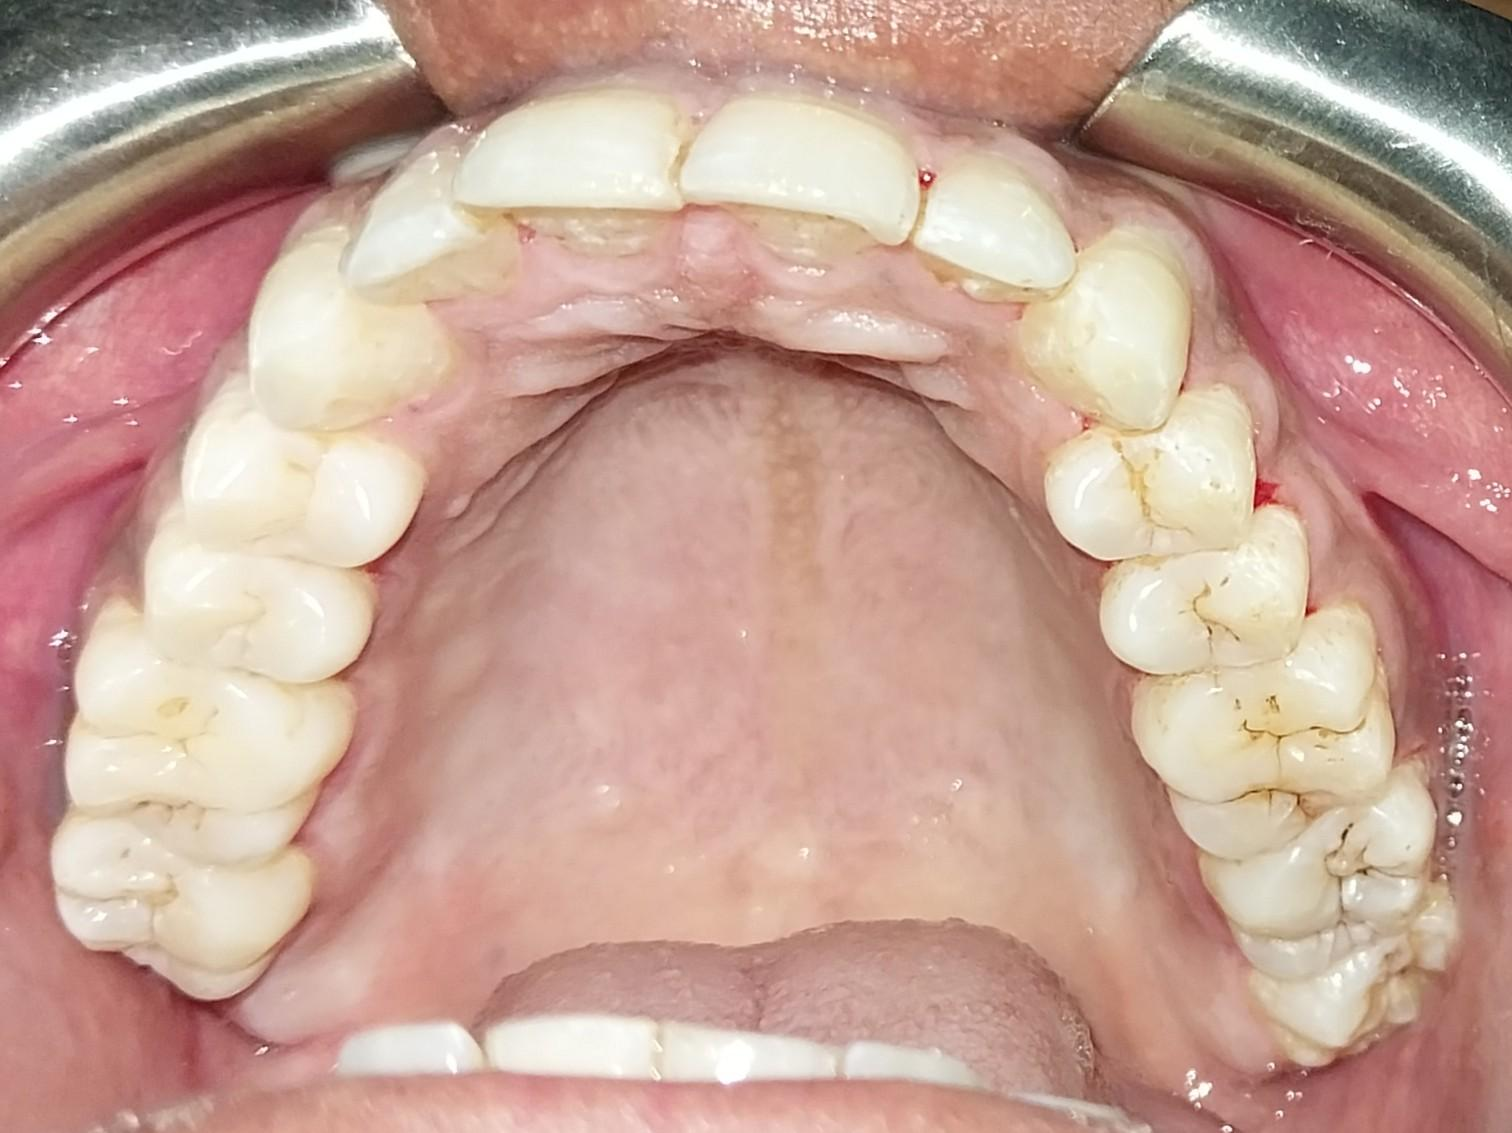D: (1136, 639, 1392, 864), (1198, 797, 1438, 987), (1094, 564, 1321, 676)
